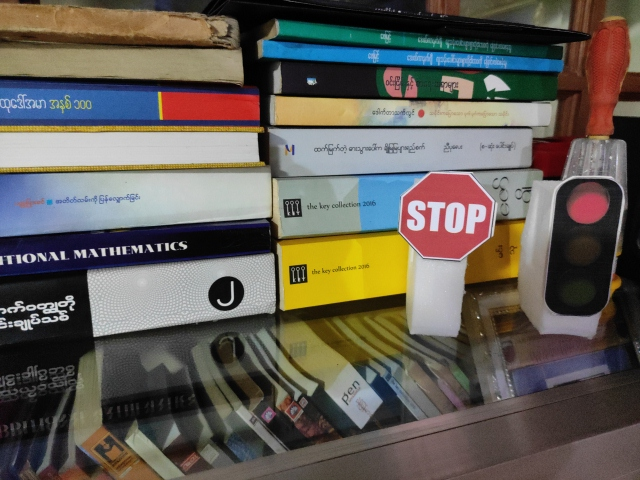Red Traffic Light: (544, 177, 625, 316)
Stop Sign: (399, 171, 496, 261)
